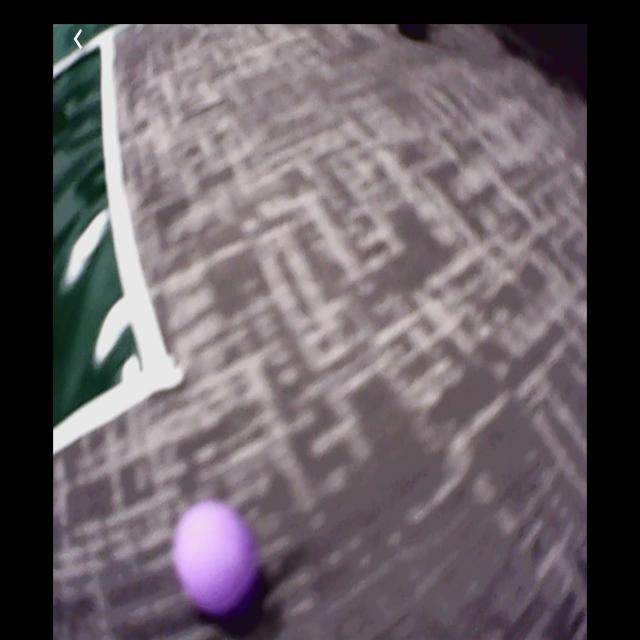ball: (177, 501, 256, 620)
